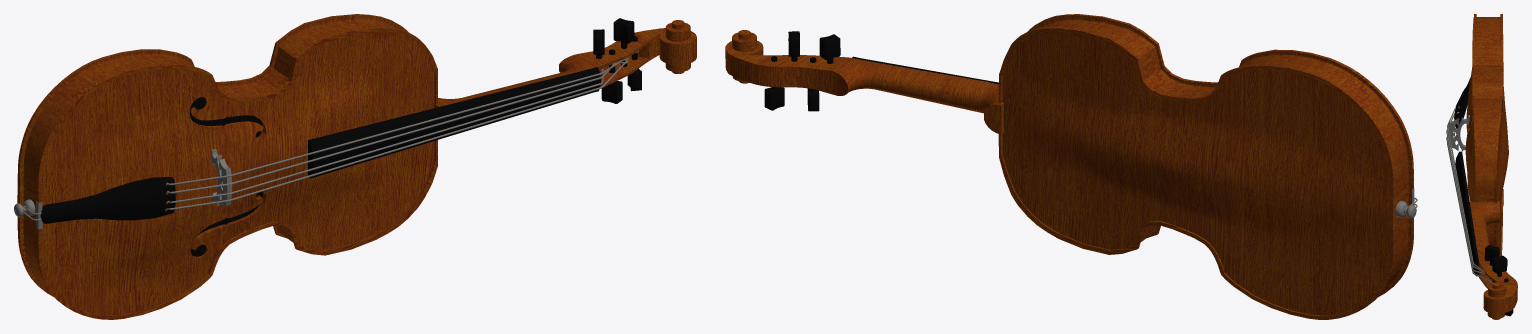
File: Violin_main.fbx
The picture shows the model from 3 angles, left to right: view 1: azimuth 30°, elevation 25°; view 2: azimuth 150°, elevation 25°; view 3: azimuth 270°, elevation 25°; orthographic projection. The views are drawn at different scales.
Parts seen in each view (by area): view 1: Body, polySurface2, polySurface7, polySurface34, polySurface33, polySurface36, polySurface35, pCube2, polySurface21, polySurface5; view 2: Body, polySurface3; view 3: Body, polySurface2, polySurface21, polySurface7, polySurface33, polySurface36, polySurface35, polySurface5, polySurface3, polySurface34.
Part boxes in pixels (x1=…): Body: x1=17, y1=14, x2=696, y2=319; polySurface2: x1=308, y1=67, x2=600, y2=178; polySurface7: x1=40, y1=177, x2=175, y2=223; polySurface34: x1=166, y1=59, x2=628, y2=209; polySurface33: x1=166, y1=50, x2=638, y2=185; polySurface36: x1=166, y1=62, x2=616, y2=193; polySurface35: x1=167, y1=70, x2=604, y2=203; pCube2: x1=189, y1=97, x2=262, y2=256; polySurface21: x1=211, y1=149, x2=231, y2=206; polySurface5: x1=613, y1=18, x2=634, y2=43; Body: x1=725, y1=14, x2=1413, y2=319; polySurface3: x1=819, y1=34, x2=840, y2=59; Body: x1=1465, y1=14, x2=1517, y2=319; polySurface2: x1=1455, y1=151, x2=1478, y2=276; polySurface21: x1=1447, y1=115, x2=1469, y2=151; polySurface7: x1=1454, y1=77, x2=1470, y2=128; polySurface33: x1=1447, y1=106, x2=1486, y2=274; polySurface36: x1=1446, y1=112, x2=1481, y2=271; polySurface35: x1=1446, y1=119, x2=1485, y2=274; polySurface5: x1=1492, y1=255, x2=1507, y2=273; polySurface3: x1=1484, y1=245, x2=1499, y2=261; polySurface34: x1=1447, y1=124, x2=1493, y2=283.
Bounding box in the file's own units: 30.94 × 10.7 × 4.03.
